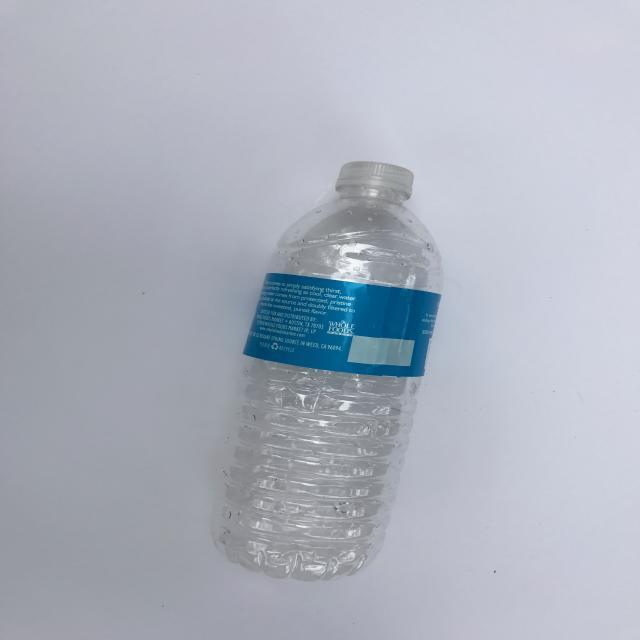plastic: (206, 157, 448, 578)
